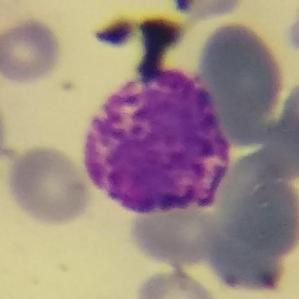Basophil: (77, 68, 236, 220)
Platelets: (170, 0, 197, 14)
RBC: (193, 17, 289, 140), (203, 205, 294, 295), (4, 143, 93, 228), (127, 188, 223, 264), (226, 177, 299, 258), (0, 14, 65, 87), (232, 135, 299, 184), (132, 266, 222, 299), (164, 0, 248, 22), (276, 76, 299, 156), (285, 1, 299, 60), (0, 89, 10, 170)
